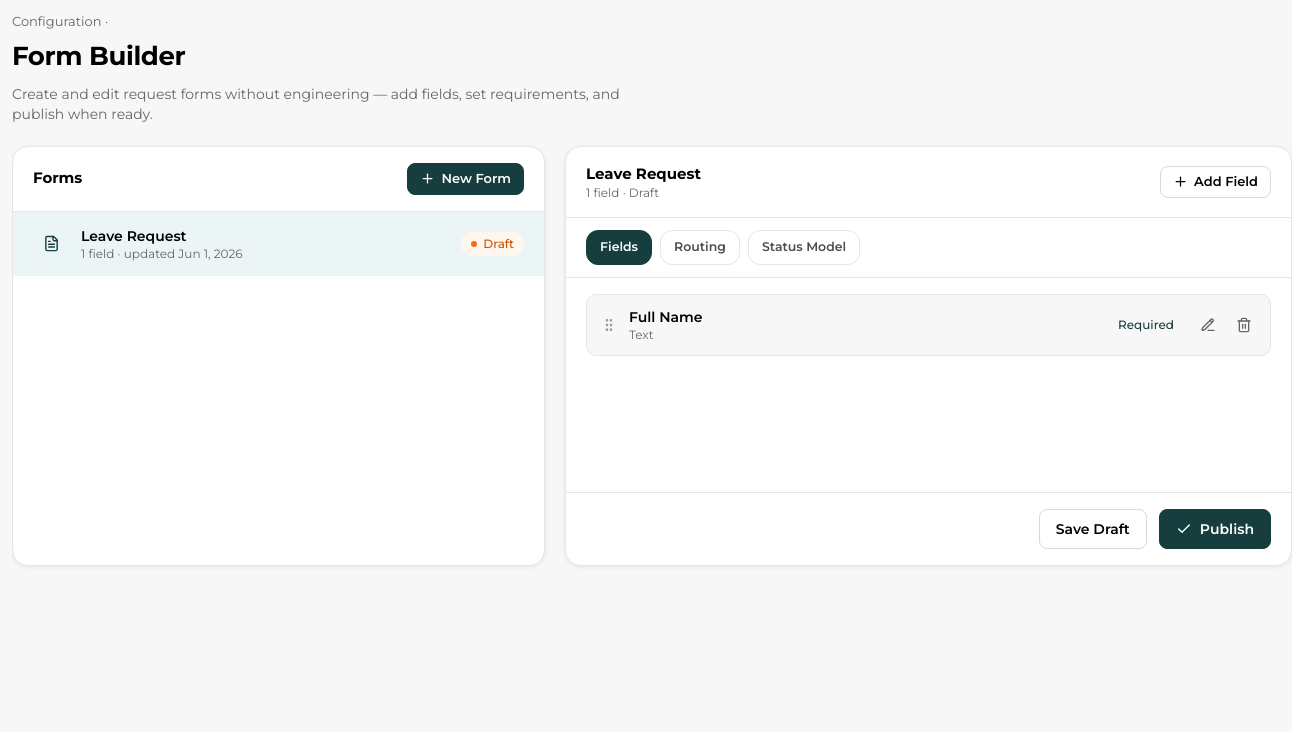
a save failure shows the error message
Expected: the text "Full Name" is shown, x1=629 y1=308 x2=703 y2=326
Click the button "Required": click(1146, 325) x1=1108 y1=313 x2=1184 y2=337
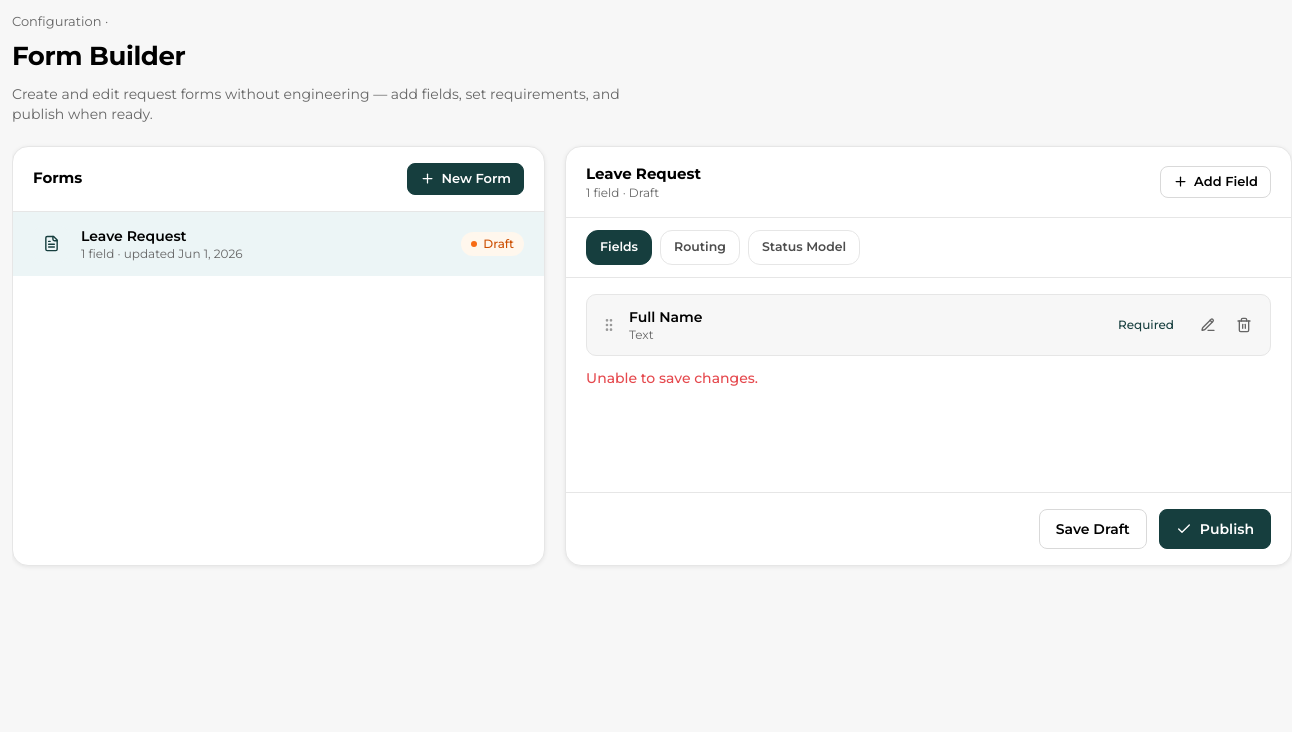
Expected: the text "Unable to save changes." is shown, x1=586 y1=369 x2=758 y2=387
